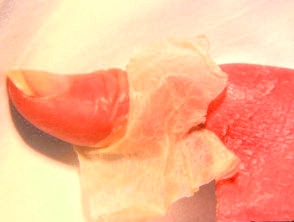SJS-TEN: (61, 41, 277, 222)
